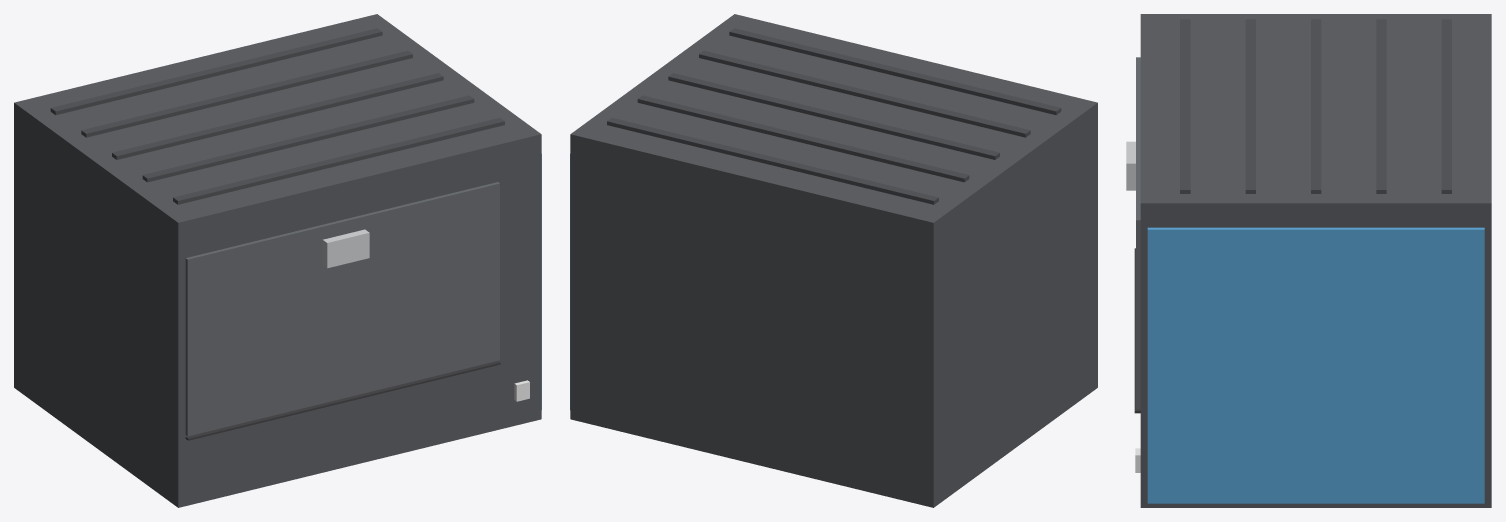
3 renders of one model, left to right at view 1: azimuth 30°, elevation 25°; view 2: azimuth 150°, elevation 25°; view 3: azimuth 270°, elevation 25°, orthographic. The views are drawn at different scales.
Visible parts, largest first — view 1: korpus, klapa, zebro0, zebro3, zebro1, zebro4, zebro2, szczelina, zamek; view 2: korpus, zebro4, zebro1, zebro3, zebro0, zebro2; view 3: zbiornik, korpus, zebro0, zebro1, zebro2, zebro3, zebro4, klapa, zamek.
Part boxes in pixels (x1,y1,x2,y2): korpus: (14,14,541,507); klapa: (185,182,499,436); zebro0: (50,28,382,115); zebro3: (142,95,474,182); zebro1: (81,50,412,137); zebro4: (173,118,504,204); zebro2: (112,73,443,159); szczelina: (185,361,500,440); zamek: (322,229,369,268); korpus: (570,14,1097,507); zebro4: (729,28,1061,115); zebro1: (637,95,969,182); zebro3: (699,50,1030,137); zebro0: (607,118,938,204); zebro2: (668,73,999,159); zbiornik: (1147,227,1484,503); korpus: (1140,14,1491,507); zebro0: (1441,19,1451,193); zebro1: (1376,19,1386,193); zebro2: (1311,19,1321,193); zebro3: (1245,19,1255,193); zebro4: (1180,19,1190,193); klapa: (1136,57,1140,408); zamek: (1126,141,1135,190).
Size of the model in its own units: 0.606 by 0.456 by 0.489.
